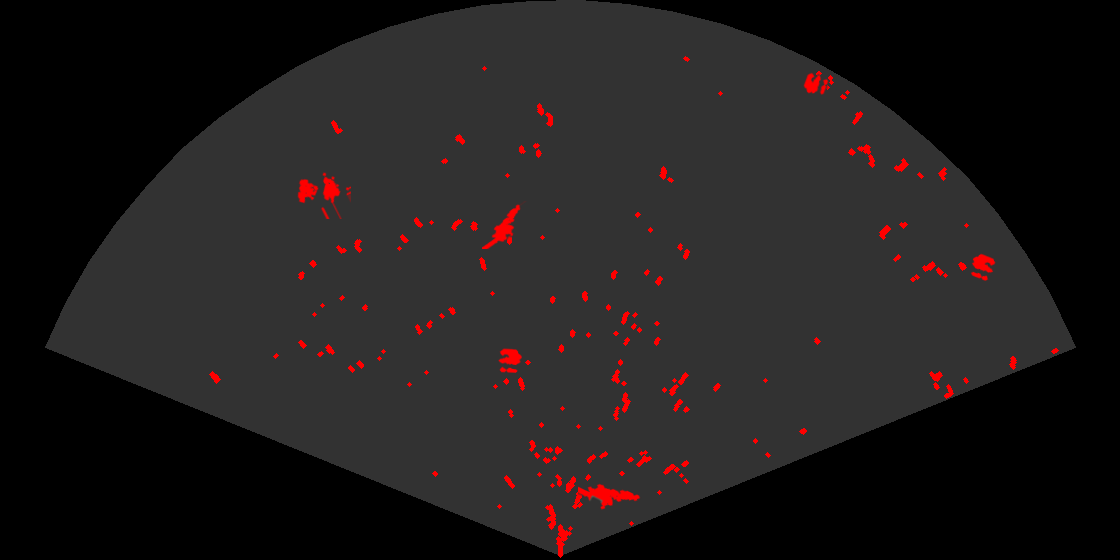ball: (969, 252, 997, 282), (497, 347, 523, 375), (802, 71, 830, 96)
cage: (296, 171, 351, 219)
frogman: (482, 201, 528, 249), (578, 482, 642, 511)
